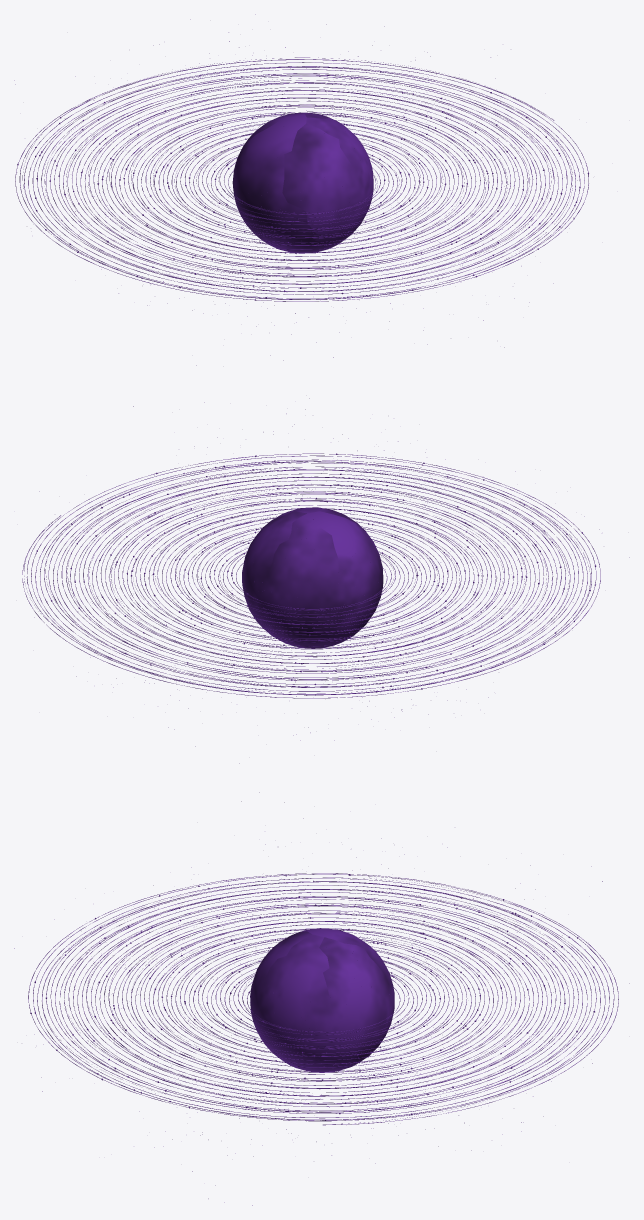
Rendered from planet_reksai.obj.
3 renders of one model, top to bottom at view 1: azimuth 30°, elevation 25°; view 2: azimuth 150°, elevation 25°; view 3: azimuth 270°, elevation 25°, orthographic. The views are drawn at different scales.
Parts seen in each view (by area): view 1: planet_reksai; view 2: planet_reksai; view 3: planet_reksai.
Boxes of the visible parts, left/top/right/bottom form: planet_reksai: left=14, top=14, right=588, bottom=365; planet_reksai: left=22, top=398, right=629, bottom=763; planet_reksai: left=14, top=792, right=629, bottom=1205.
Bounding box in the file's own units: 6.76 × 3.55 × 6.63.
